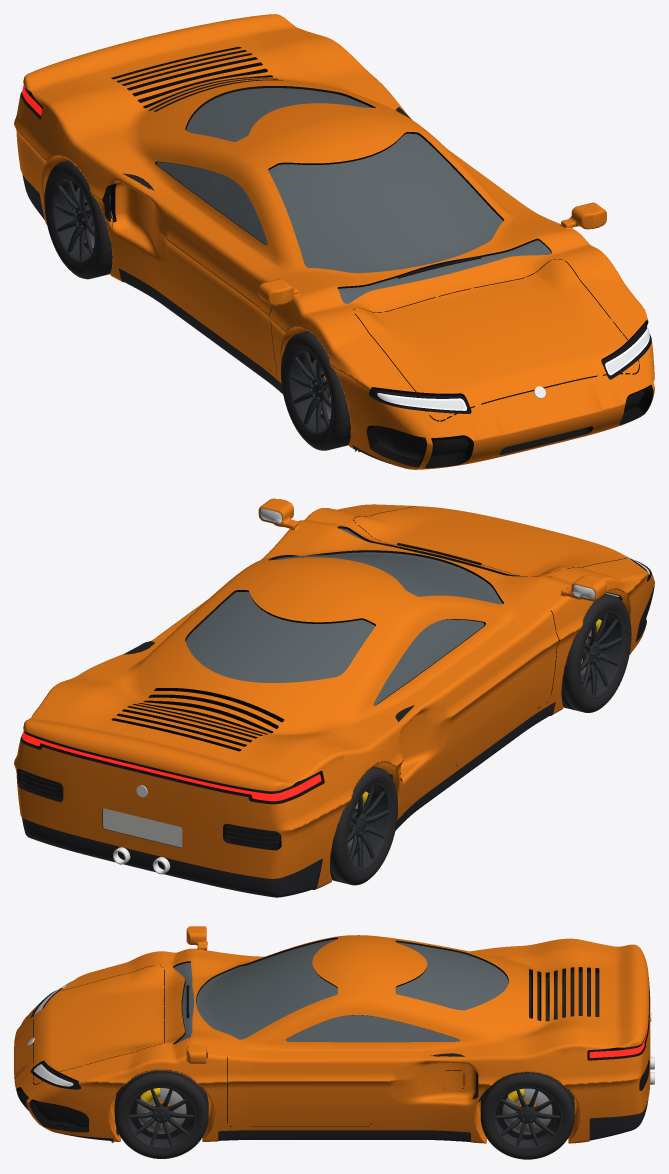
Rendered from orsini-saetta.fbx.
The picture shows the model from 3 angles, top to bottom: view 1: azimuth 30°, elevation 25°; view 2: azimuth 150°, elevation 25°; view 3: azimuth 270°, elevation 25°; orthographic projection. The views are drawn at different scales.
Parts seen in each view (by area): view 1: Body_LOD0, Glass_LOD0, Walls_LOD0, Wheel_FR_LOD0, Wheel_RR_LOD0, Grille_LOD0, Carbon_LOD0, HeadlightLens_LOD0, Gloss_LOD0; view 2: Body_LOD0, Glass_LOD0, Walls_LOD0, Carbon_LOD0, Wheel_FR_LOD0, Wheel_RR_LOD0, Gloss_LOD0, Plate_LOD0, TaillightLens_LOD0, Grille_LOD0, RearVentSlats_LOD0; view 3: Body_LOD0, Glass_LOD0, Wheel_FL_LOD0, Wheel_RL_LOD0, Carbon_LOD0, Walls_LOD0, Grille_LOD0, Gloss_LOD0, HeadlightLens_LOD0, TaillightLens_LOD0.
Boxes of the visible parts, bbox=[...] form: Body_LOD0: bbox=[14, 14, 654, 469]; Glass_LOD0: bbox=[156, 88, 551, 303]; Walls_LOD0: bbox=[20, 46, 653, 468]; Wheel_FR_LOD0: bbox=[280, 331, 350, 450]; Wheel_RR_LOD0: bbox=[44, 160, 112, 279]; Grille_LOD0: bbox=[106, 107, 644, 459]; Carbon_LOD0: bbox=[22, 174, 397, 466]; HeadlightLens_LOD0: bbox=[377, 327, 649, 410]; Gloss_LOD0: bbox=[24, 87, 648, 413]; Body_LOD0: bbox=[14, 498, 654, 889]; Glass_LOD0: bbox=[186, 528, 502, 705]; Walls_LOD0: bbox=[17, 506, 654, 889]; Carbon_LOD0: bbox=[22, 652, 631, 897]; Wheel_FR_LOD0: bbox=[561, 594, 631, 712]; Wheel_RR_LOD0: bbox=[330, 766, 397, 885]; Gloss_LOD0: bbox=[23, 563, 648, 803]; Plate_LOD0: bbox=[103, 808, 182, 847]; TaillightLens_LOD0: bbox=[22, 730, 321, 801]; Grille_LOD0: bbox=[24, 641, 414, 847]; RearVentSlats_LOD0: bbox=[20, 771, 277, 845]; Body_LOD0: bbox=[14, 926, 650, 1143]; Glass_LOD0: bbox=[174, 939, 508, 1043]; Wheel_FL_LOD0: bbox=[114, 1070, 208, 1158]; Wheel_RL_LOD0: bbox=[480, 1072, 574, 1159]; Carbon_LOD0: bbox=[59, 1100, 648, 1141]; Walls_LOD0: bbox=[16, 937, 649, 1132]; Grille_LOD0: bbox=[23, 972, 641, 1142]; Gloss_LOD0: bbox=[32, 988, 645, 1088]; HeadlightLens_LOD0: bbox=[33, 981, 73, 1086]; TaillightLens_LOD0: bbox=[589, 1024, 648, 1057].
Size of what is drawn, in the model's own units: 2.21 by 1.19 by 4.64.
